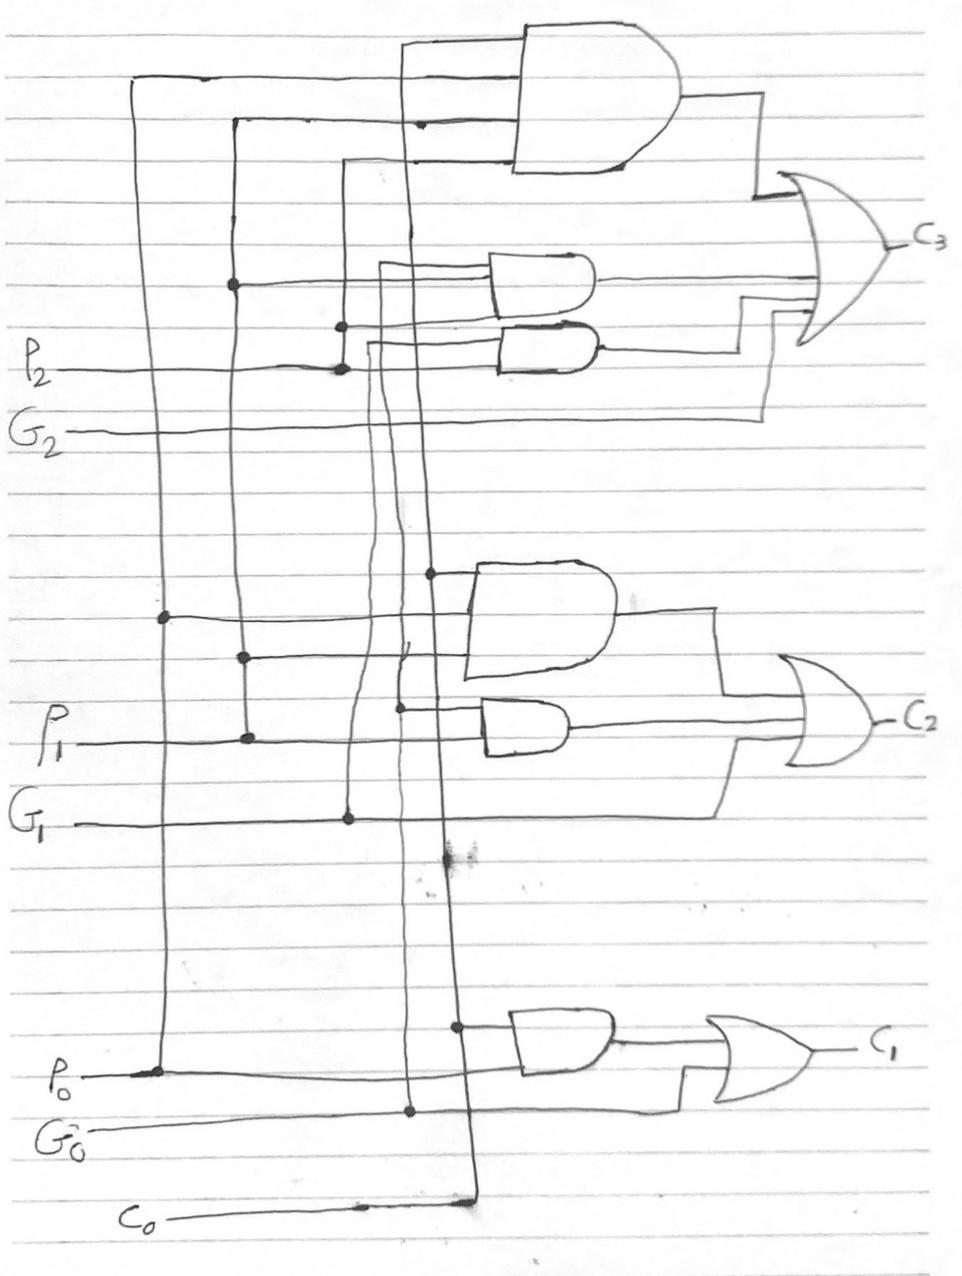AND: (505, 15, 698, 205), (455, 545, 635, 682), (497, 992, 635, 1077), (459, 687, 597, 765), (478, 237, 602, 321), (478, 317, 612, 383)
OR: (765, 148, 906, 363), (750, 617, 890, 787), (707, 987, 838, 1113)
